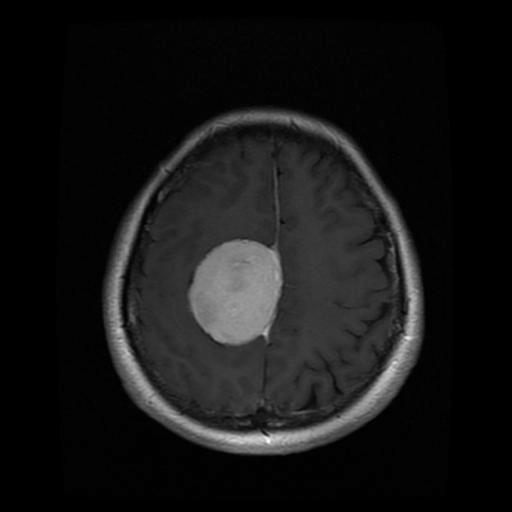Tumour-Meningioma: (174, 218, 311, 370)
